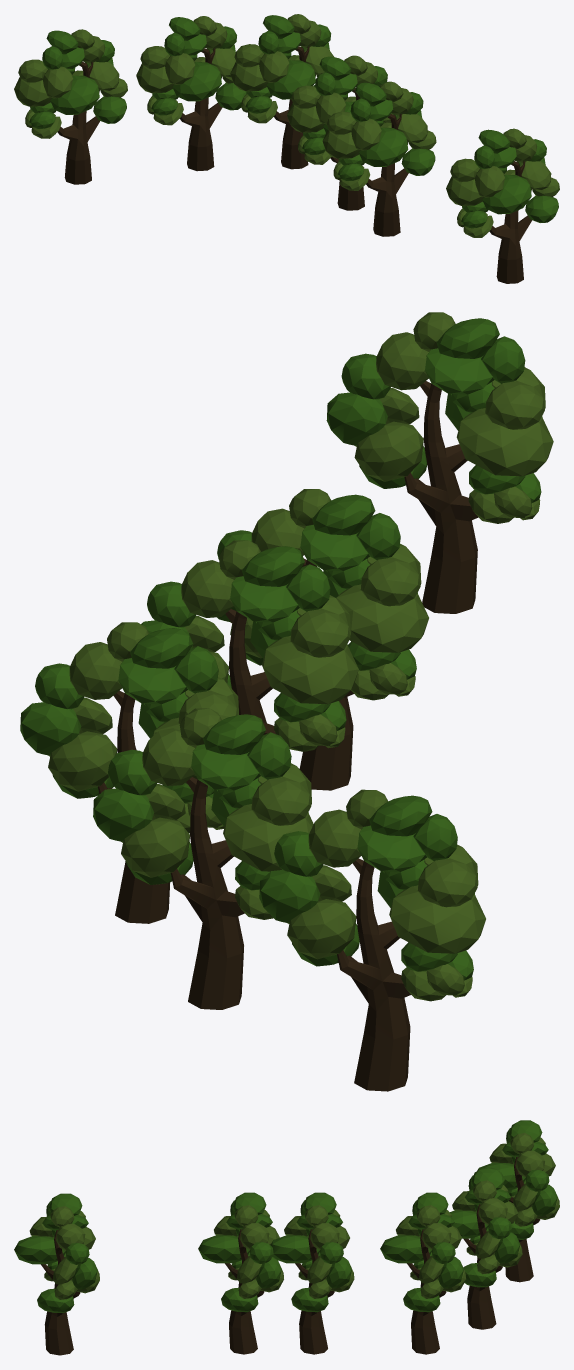
Rendered from tree.obj.
The picture shows the model from 3 angles, top to bottom: view 1: azimuth 30°, elevation 25°; view 2: azimuth 150°, elevation 25°; view 3: azimuth 270°, elevation 25°; orthographic projection. The views are drawn at different scales.
Visible parts, largest first — view 1: Oak_Cylinder.006, Oak_Cylinder.004, Oak_Cylinder.001, Oak_Cylinder.005, Oak_Cylinder.003, Oak_Cylinder.002; view 2: Oak_Cylinder.006, Oak_Cylinder.004, Oak_Cylinder.005, Oak_Cylinder.002, Oak_Cylinder.003, Oak_Cylinder.001; view 3: Oak_Cylinder.004, Oak_Cylinder.003, Oak_Cylinder.002, Oak_Cylinder.001, Oak_Cylinder.005, Oak_Cylinder.006.
Part boxes in pixels (bbox=[...]): Oak_Cylinder.006: bbox=[14, 29, 127, 184]; Oak_Cylinder.004: bbox=[446, 128, 559, 283]; Oak_Cylinder.001: bbox=[322, 81, 436, 236]; Oak_Cylinder.005: bbox=[136, 16, 246, 171]; Oak_Cylinder.003: bbox=[230, 14, 333, 169]; Oak_Cylinder.002: bbox=[287, 55, 393, 210]; Oak_Cylinder.006: bbox=[259, 789, 485, 1091]; Oak_Cylinder.004: bbox=[326, 312, 553, 613]; Oak_Cylinder.005: bbox=[93, 708, 313, 1009]; Oak_Cylinder.002: bbox=[141, 540, 358, 751]; Oak_Cylinder.003: bbox=[20, 622, 238, 923]; Oak_Cylinder.001: bbox=[217, 489, 428, 790]; Oak_Cylinder.004: bbox=[14, 1193, 99, 1355]; Oak_Cylinder.003: bbox=[380, 1192, 466, 1354]; Oak_Cylinder.002: bbox=[270, 1192, 354, 1354]; Oak_Cylinder.001: bbox=[198, 1192, 283, 1354]; Oak_Cylinder.005: bbox=[450, 1168, 522, 1329]; Oak_Cylinder.006: bbox=[477, 1120, 559, 1282].
Bounding box in the file's own units: 349 × 187 × 549.
